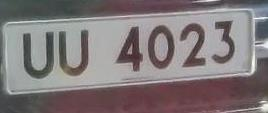0: (144, 20, 179, 74)
2: (175, 17, 212, 73)
3: (207, 15, 238, 70)
4: (111, 19, 148, 80)
U: (53, 24, 96, 82), (18, 25, 58, 80)
